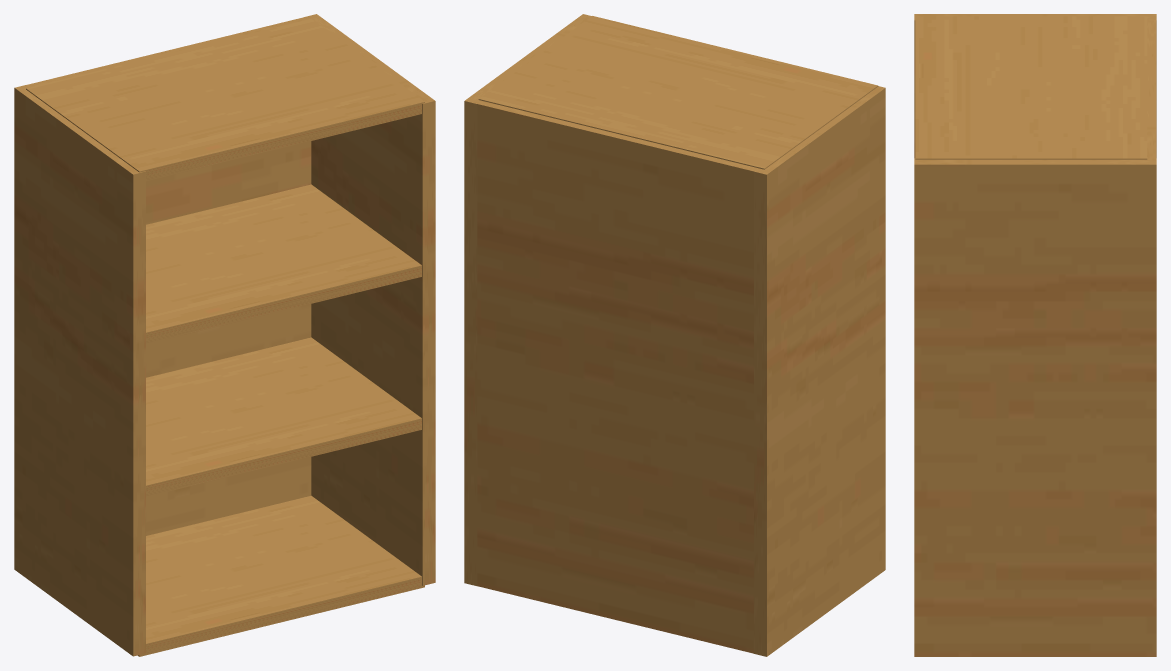
Rendered from space_box.fbx.
The picture shows the model from 3 angles, left to right: view 1: azimuth 30°, elevation 25°; view 2: azimuth 150°, elevation 25°; view 3: azimuth 270°, elevation 25°; orthographic projection. The views are drawn at different scales.
Visible parts, largest first — view 1: pCube8; view 2: pCube8; view 3: pCube8.
Boxes of the visible parts, <box> form: pCube8: <box>14,14,435,656</box>; pCube8: <box>464,14,885,656</box>; pCube8: <box>914,14,1156,656</box>.
Bounding box in the file's own units: 4.3 × 6.6 × 2.92.
1 material, 1 textured.
